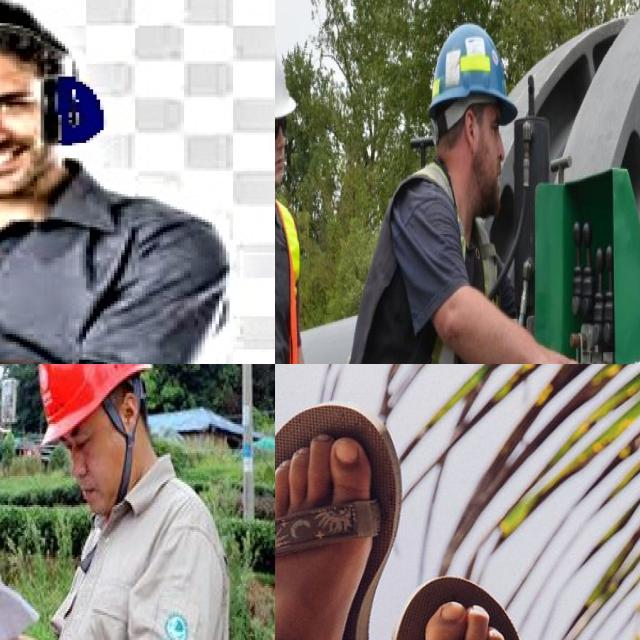Ear-protection: (0, 17, 111, 173)
No_Ear-Protection: (115, 384, 149, 441), (462, 103, 480, 152)
No_Glasses: (57, 414, 103, 461), (462, 102, 507, 145)
Sandals: (275, 401, 404, 640)
face_nomask: (456, 103, 507, 218), (72, 439, 122, 518), (275, 104, 294, 186)
glasses: (275, 111, 291, 147)
hand_noglove: (530, 339, 591, 364)
head_helmet: (40, 364, 151, 444), (429, 23, 514, 122), (275, 32, 300, 125)
person: (332, 20, 512, 364), (275, 29, 320, 364)
vest: (348, 167, 471, 364), (275, 167, 308, 364)
